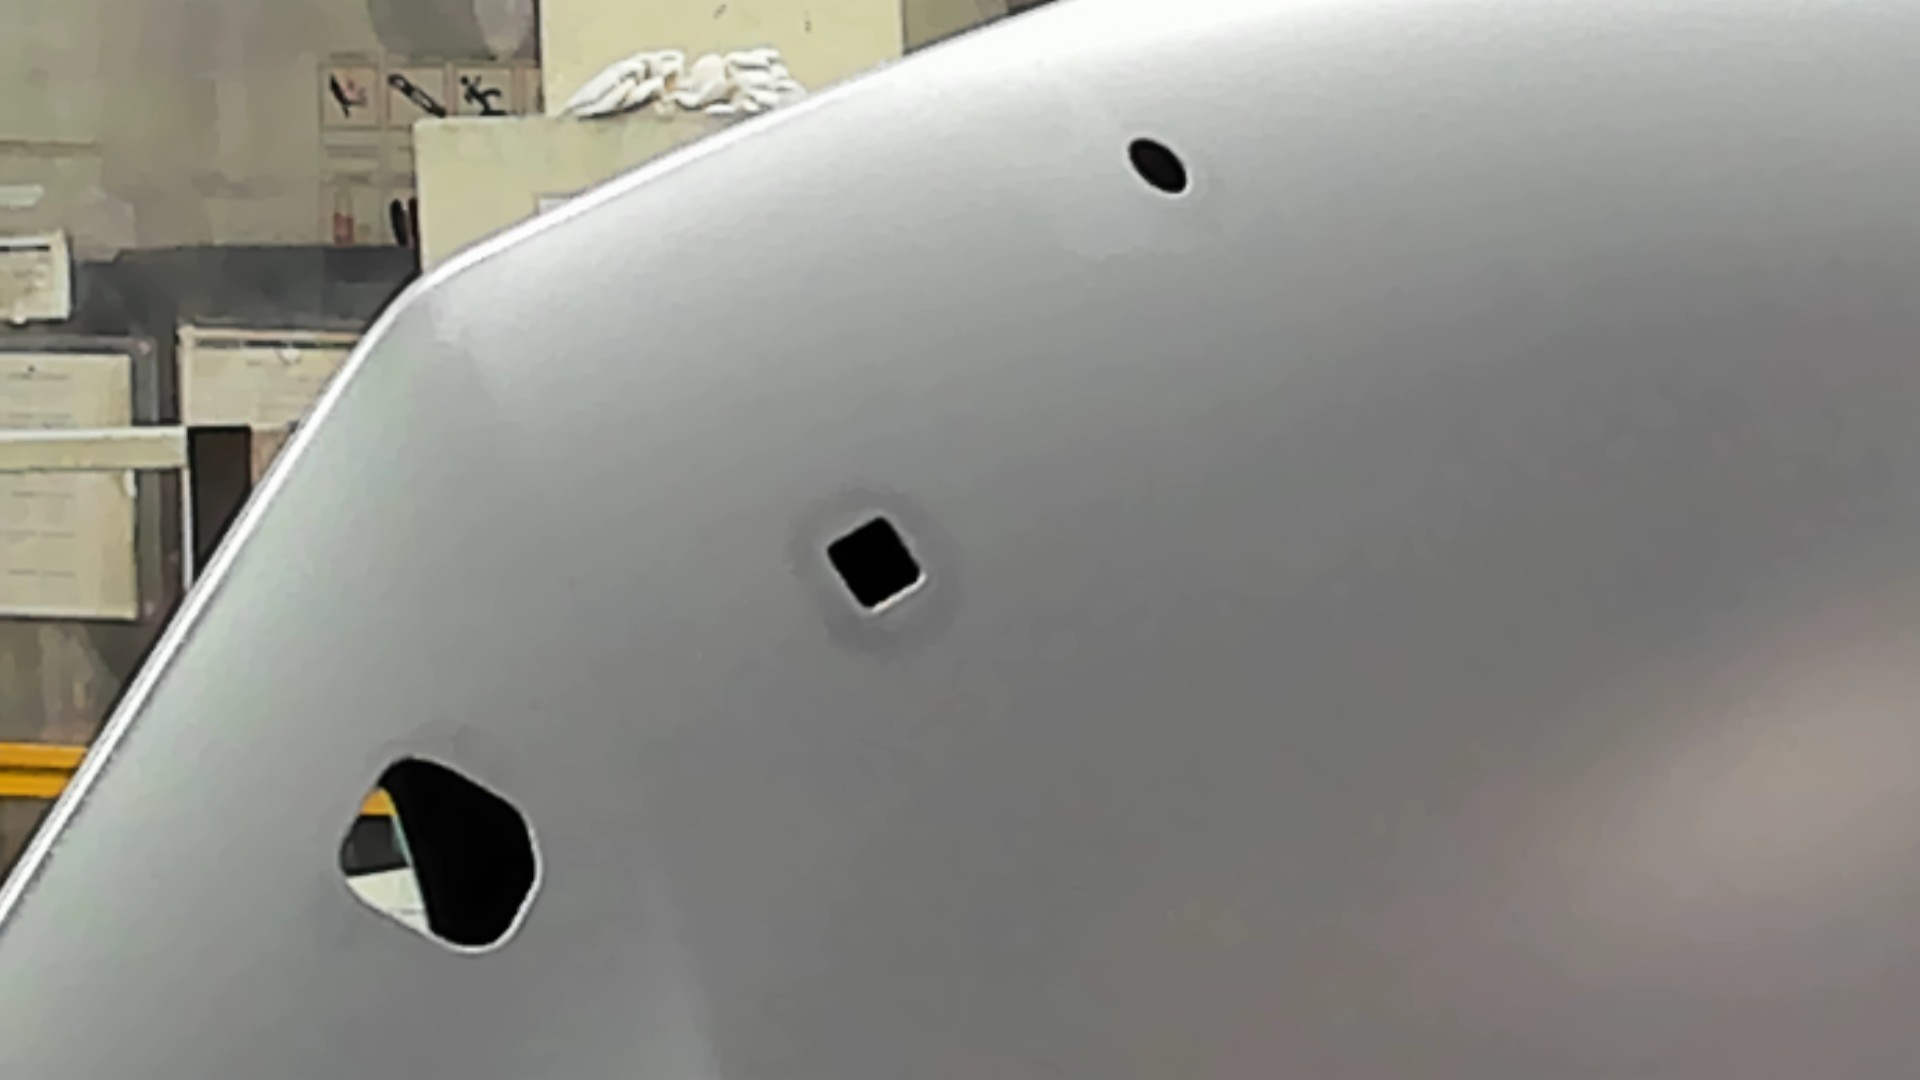chico: (1121, 133, 1192, 204)
grande: (324, 750, 551, 961)
mediano: (822, 513, 927, 618)
